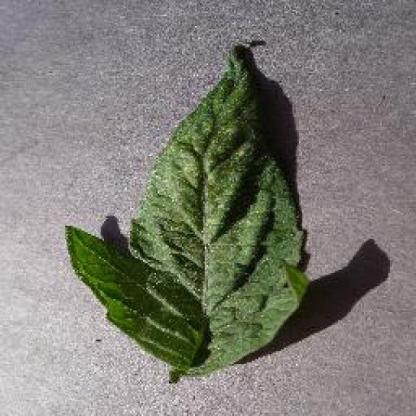Tomato_Spider_Mites: (68, 48, 308, 370)
